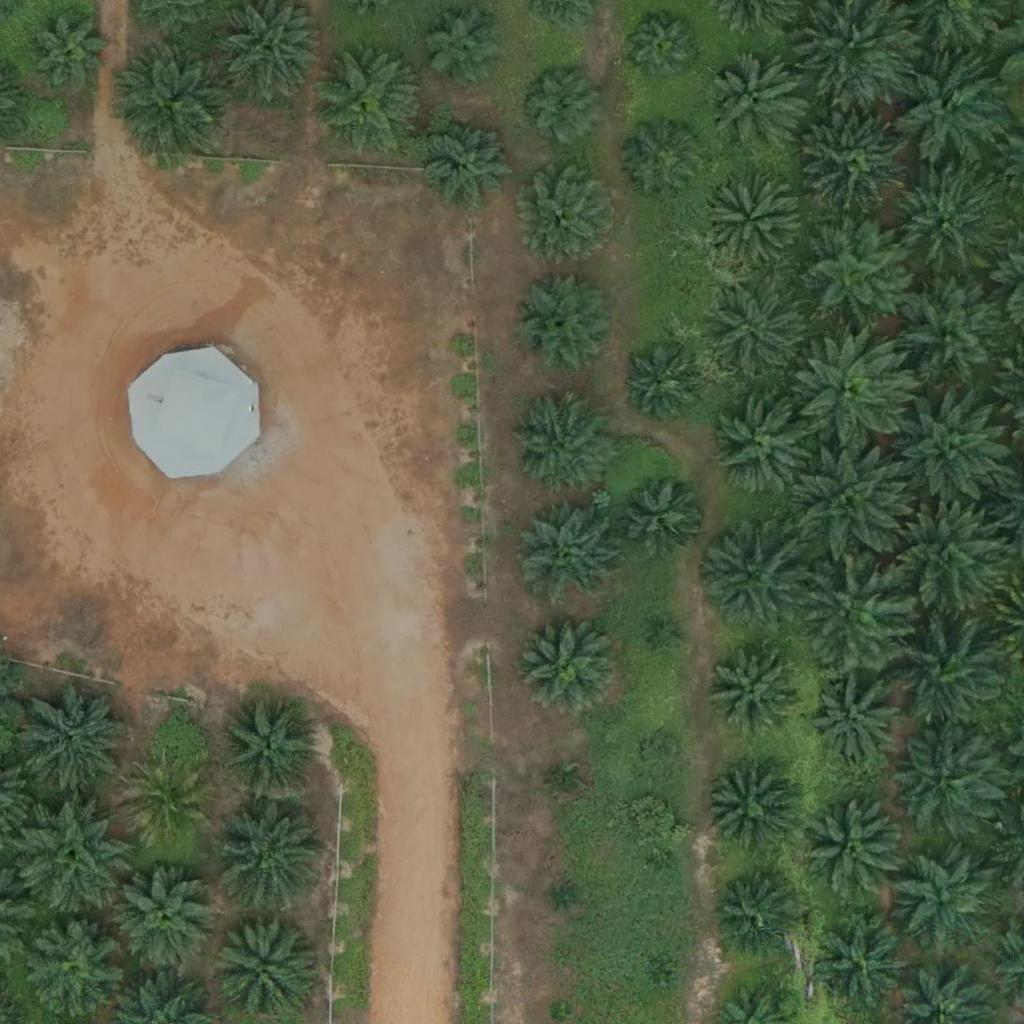Kelapa_Sawit: (696, 520, 809, 634), (20, 683, 133, 797), (18, 799, 131, 913), (119, 45, 232, 158), (801, 108, 914, 221), (894, 53, 1007, 166), (888, 164, 1001, 277), (896, 279, 1009, 392), (311, 45, 423, 159), (796, 448, 908, 562), (890, 618, 1002, 732), (894, 721, 1006, 835), (799, 554, 911, 668), (796, 217, 908, 330), (795, 338, 907, 451), (898, 390, 1010, 503), (887, 505, 999, 618), (215, 798, 327, 911), (509, 392, 609, 493), (707, 53, 807, 154), (702, 171, 802, 272), (893, 850, 993, 951), (802, 799, 902, 900), (810, 911, 910, 1012), (517, 503, 617, 604), (515, 611, 615, 712), (217, 698, 317, 799), (519, 166, 619, 266), (514, 273, 614, 373), (712, 285, 812, 385), (714, 398, 814, 498), (212, 918, 312, 1018), (118, 871, 218, 971), (24, 921, 124, 1021), (428, 118, 516, 206), (711, 872, 799, 960), (123, 761, 211, 849), (422, 3, 509, 91), (518, 62, 605, 150), (620, 117, 707, 205), (812, 677, 899, 765), (712, 644, 799, 732), (705, 766, 792, 854), (618, 473, 705, 561), (625, 345, 700, 421), (30, 14, 105, 89), (623, 9, 698, 84), (643, 736, 681, 774), (656, 621, 681, 646), (652, 851, 677, 876), (646, 967, 671, 992), (552, 771, 577, 796), (552, 884, 577, 909)
